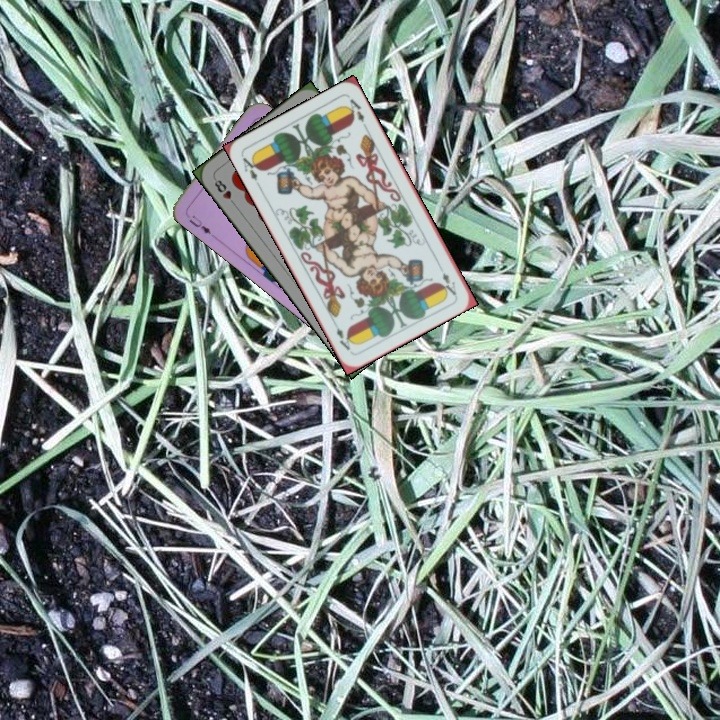EA: (239, 151, 263, 189), (438, 269, 459, 298)
EU: (185, 211, 213, 237)
H8: (210, 174, 239, 209)
